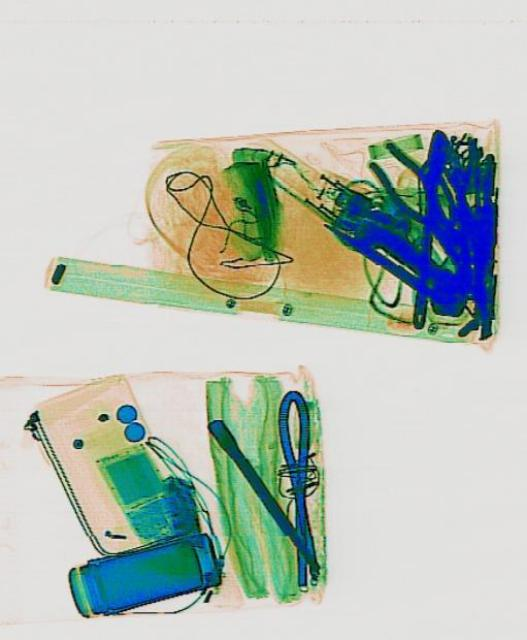Pliers: (360, 130, 479, 268)
Wrench: (404, 126, 448, 330)
